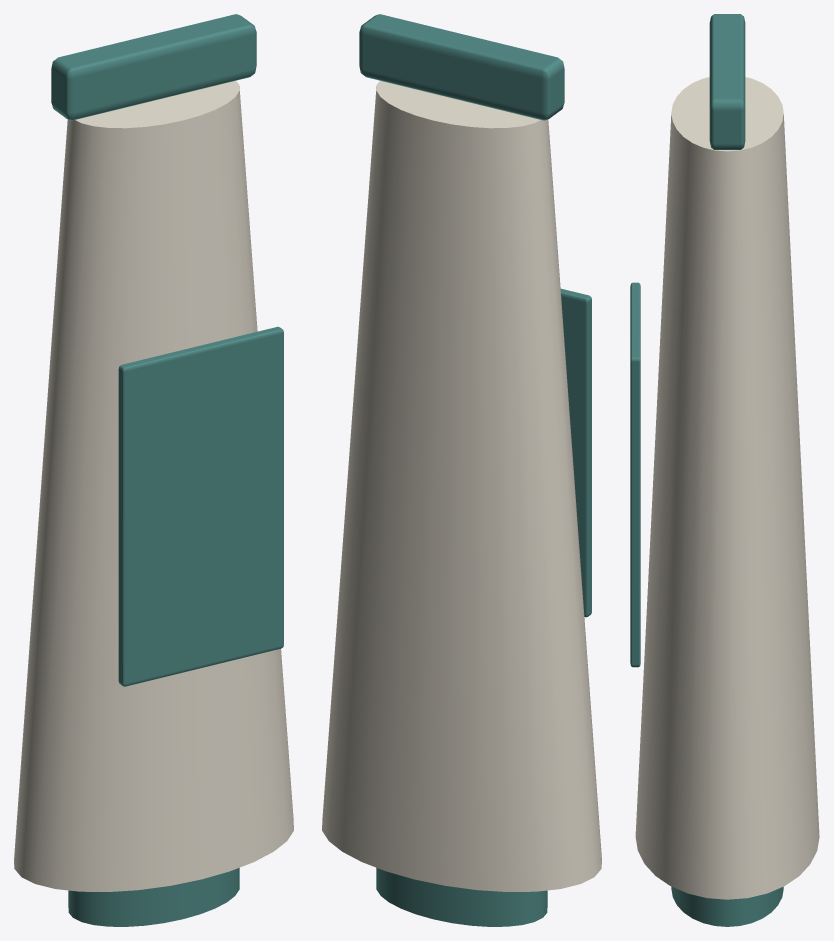
File: wp-tube-de-dentifrice.glb
3 views of the same model, side by side, from view 1: azimuth 30°, elevation 25°; view 2: azimuth 150°, elevation 25°; view 3: azimuth 270°, elevation 25° (orthographic). The views are drawn at different scales.
Visible parts, largest first — view 1: wp-tube-de-dentifrice; view 2: wp-tube-de-dentifrice; view 3: wp-tube-de-dentifrice.
Part boxes in pixels (x1,y1,x2,y2): wp-tube-de-dentifrice: (14, 14, 293, 926); wp-tube-de-dentifrice: (322, 14, 601, 926); wp-tube-de-dentifrice: (630, 14, 819, 926).
Bounding box in the file's own units: 0.055 × 0.17 × 0.035.
